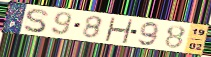8: (163, 24, 187, 50), (81, 15, 104, 40)
9: (49, 11, 74, 36), (138, 21, 161, 47)
H: (103, 16, 135, 44)
S: (22, 7, 49, 34)
